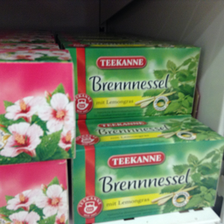tea: (72, 118, 224, 223), (63, 39, 201, 120)
